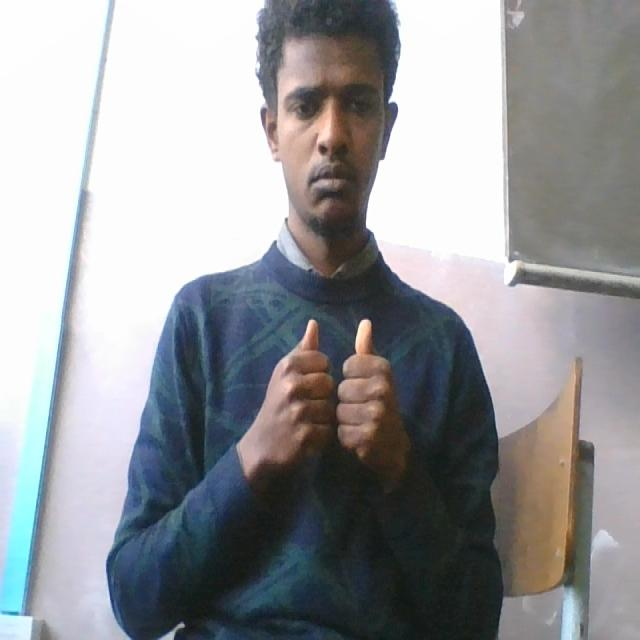dabo: (257, 310, 410, 486)
